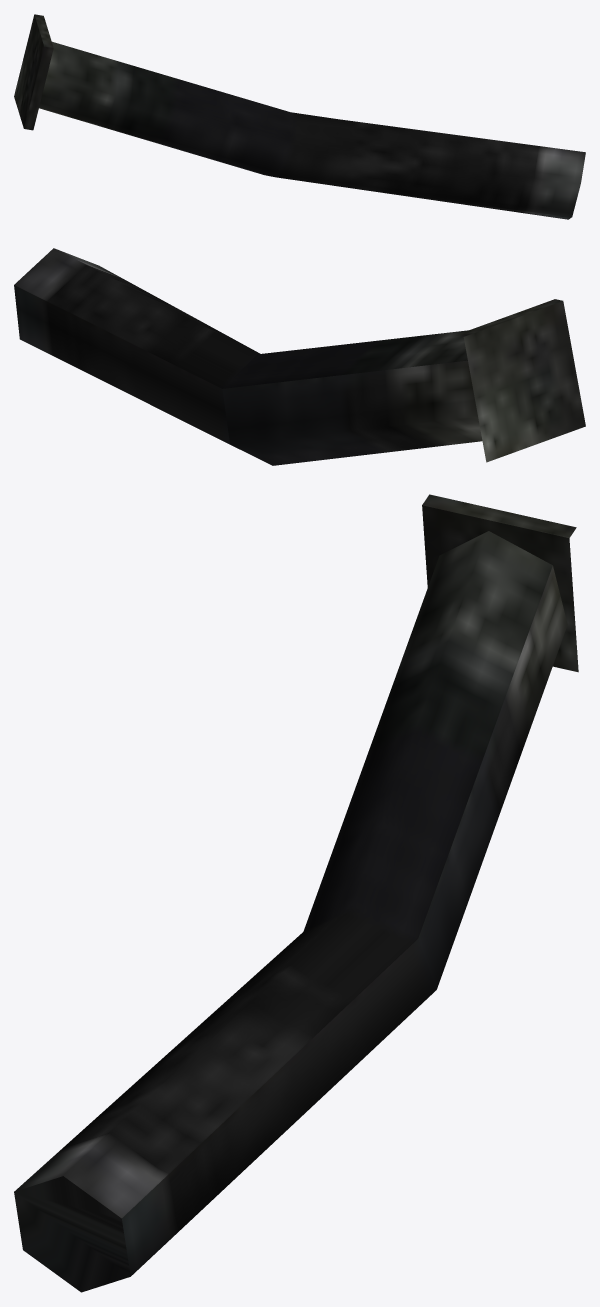
Rendered from prop_tiger_part_2.glb.
3 renders of one model, top to bottom at view 1: azimuth 30°, elevation 25°; view 2: azimuth 150°, elevation 25°; view 3: azimuth 270°, elevation 25°, orthographic. The views are drawn at different scales.
Bounding box in the file's own units: 33.75 × 14.35 × 18.63.
1 material, 1 textured.
